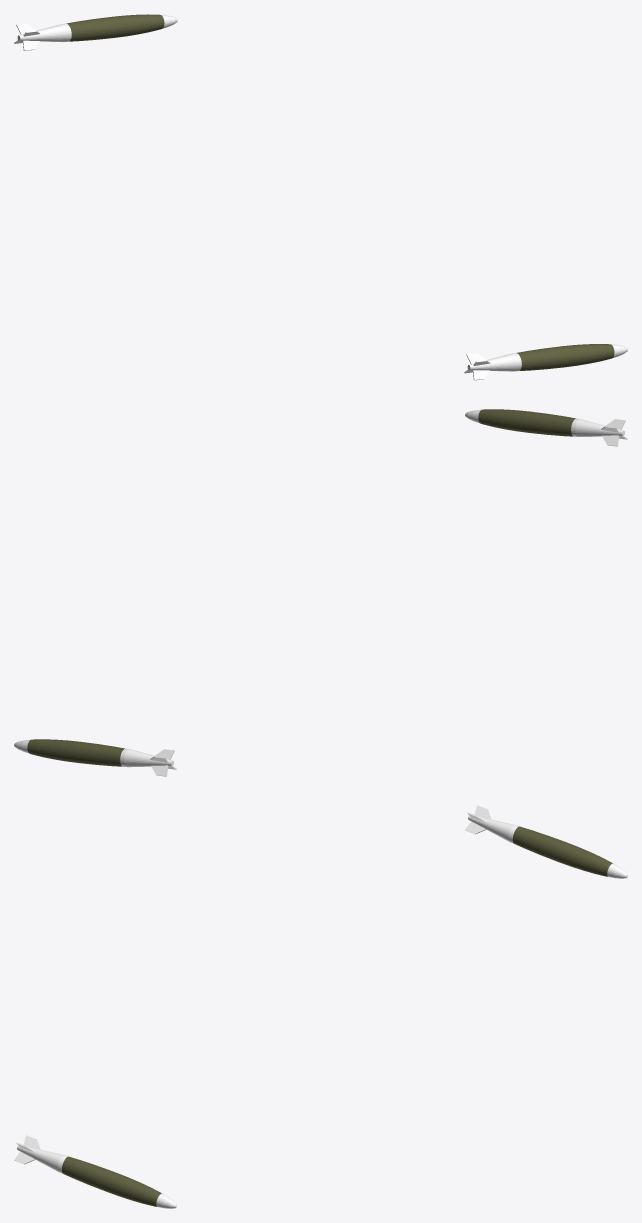
Rendered from a10cgbu381102.glb.
The picture shows the model from 3 angles, top to bottom: view 1: azimuth 30°, elevation 25°; view 2: azimuth 150°, elevation 25°; view 3: azimuth 330°, elevation 25°; orthographic projection.
Visible parts, largest first — view 1: 円柱.008, 円柱.006; view 2: 円柱.008, 円柱.006; view 3: 円柱.008, 円柱.006.
Boxes of the visible parts, <box> form: 円柱.008: <box>14,14,177,50</box>; 円柱.006: <box>464,344,627,380</box>; 円柱.008: <box>14,739,176,776</box>; 円柱.006: <box>465,409,627,446</box>; 円柱.008: <box>465,805,627,878</box>; 円柱.006: <box>14,1135,176,1208</box>.
Bounding box in the file's own units: 2.4 × 0.4873 × 12.07.
3 materials, 1 textured.
